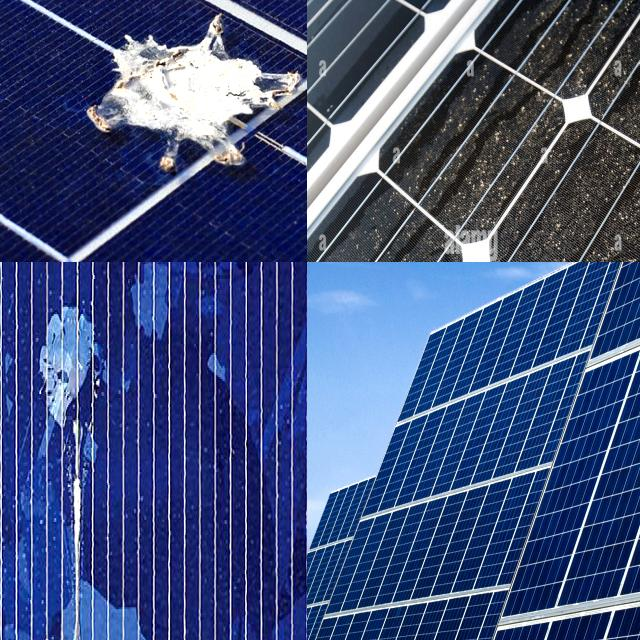bird: (87, 4, 307, 183)
crack: (413, 313, 640, 640)
dust: (428, 103, 532, 227), (535, 151, 640, 262), (317, 211, 404, 262)
shadow: (24, 574, 109, 640)
